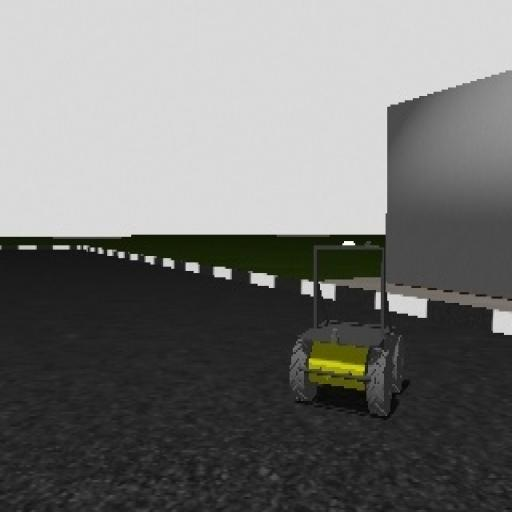huskya200: (280, 230, 414, 420)
